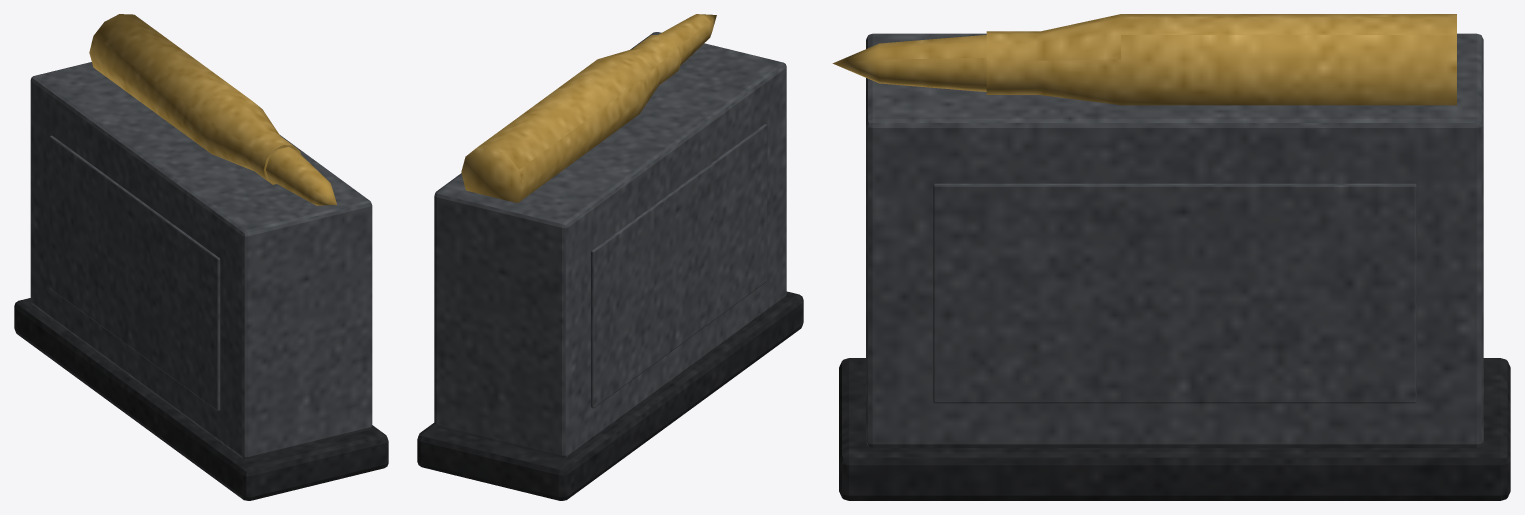
Rendered from mag_t5000.glb.
The picture shows the model from 3 angles, left to right: view 1: azimuth 30°, elevation 25°; view 2: azimuth 150°, elevation 25°; view 3: azimuth 270°, elevation 25°; orthographic projection. The views are drawn at different scales.
Parts seen in each view (by area): view 1: mag_t5000; view 2: mag_t5000; view 3: mag_t5000.
Boxes of the visible parts, x1,y1,x2,y2 form: mag_t5000: (14, 14, 388, 500); mag_t5000: (417, 14, 803, 500); mag_t5000: (832, 14, 1510, 500).
Size of the model in its own units: 0.036 by 0.0734 by 0.101.
3 materials, 3 textured.
